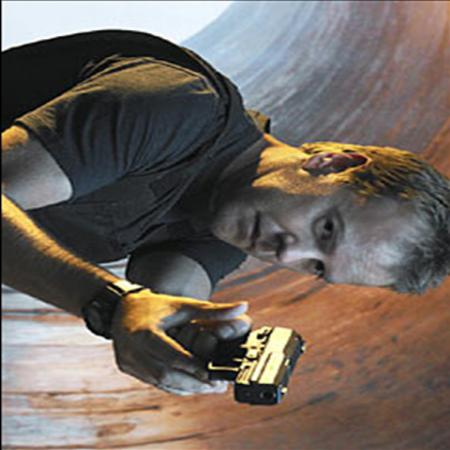Pistol: (174, 318, 316, 406)
